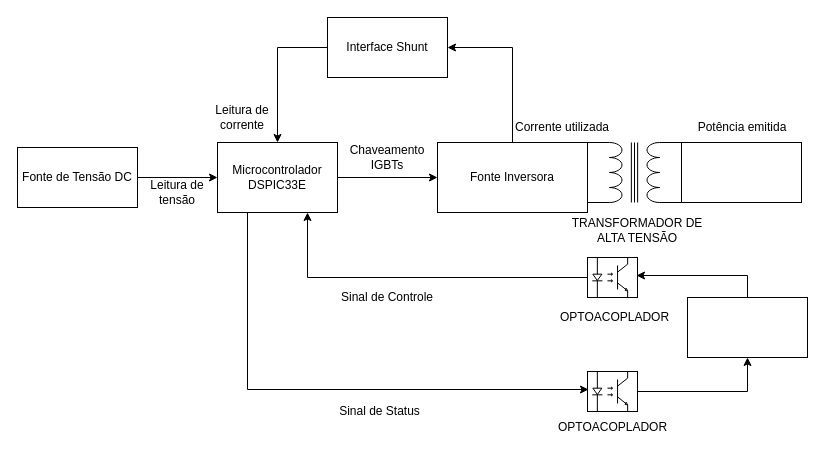
The diagram is 825 pixels wide and 455 high, and some of its shapes have lost their labels. Here are the shapes that lost their labels. From the top down, the box of each, then its label:
(680, 142, 802, 202): Magnetron
(686, 296, 808, 358): Circuito de comunicação
